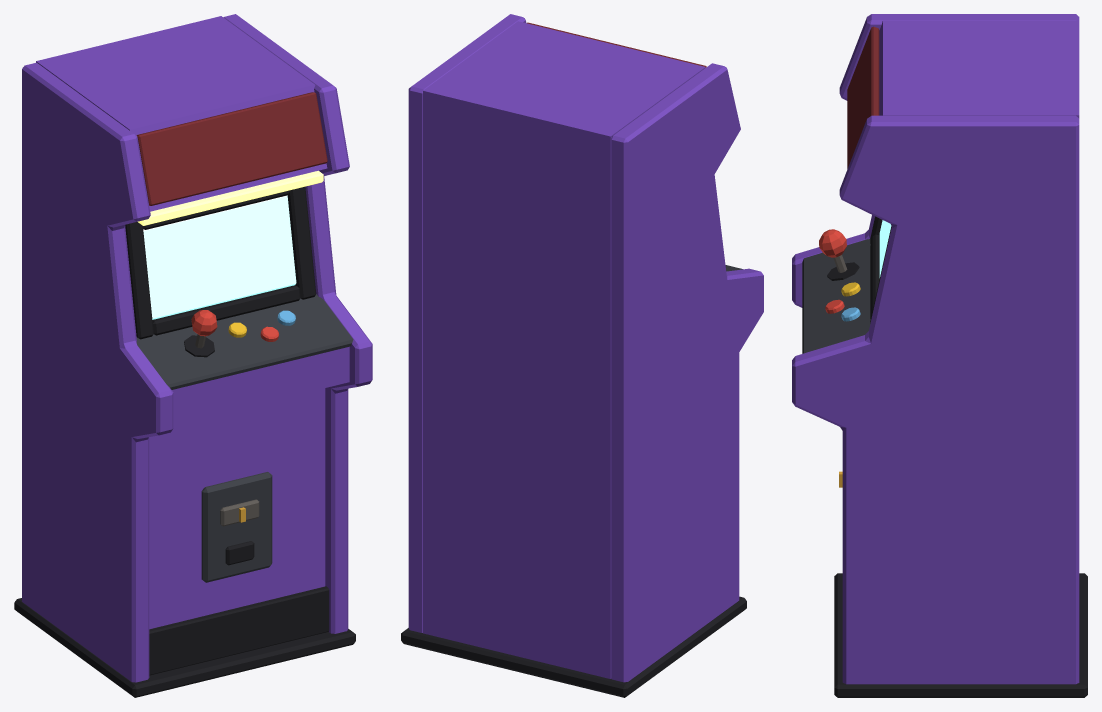
Rendered from arcade_cabinet.glb.
3 views of the same model, side by side, from view 1: azimuth 30°, elevation 25°; view 2: azimuth 150°, elevation 25°; view 3: azimuth 270°, elevation 25° (orthographic). The views are drawn at different scales.
Visible parts, largest first — view 1: arcade_cabinet, part_joystick_1; view 2: arcade_cabinet; view 3: arcade_cabinet, part_joystick_1.
Part boxes in pixels (bbox=[...]): arcade_cabinet: bbox=[14, 14, 372, 697]; part_joystick_1: bbox=[191, 310, 217, 348]; arcade_cabinet: bbox=[401, 14, 763, 697]; arcade_cabinet: bbox=[792, 14, 1087, 697]; part_joystick_1: bbox=[819, 229, 847, 272].
Size of the model in its own units: 0.64 by 1.5 by 0.7.
